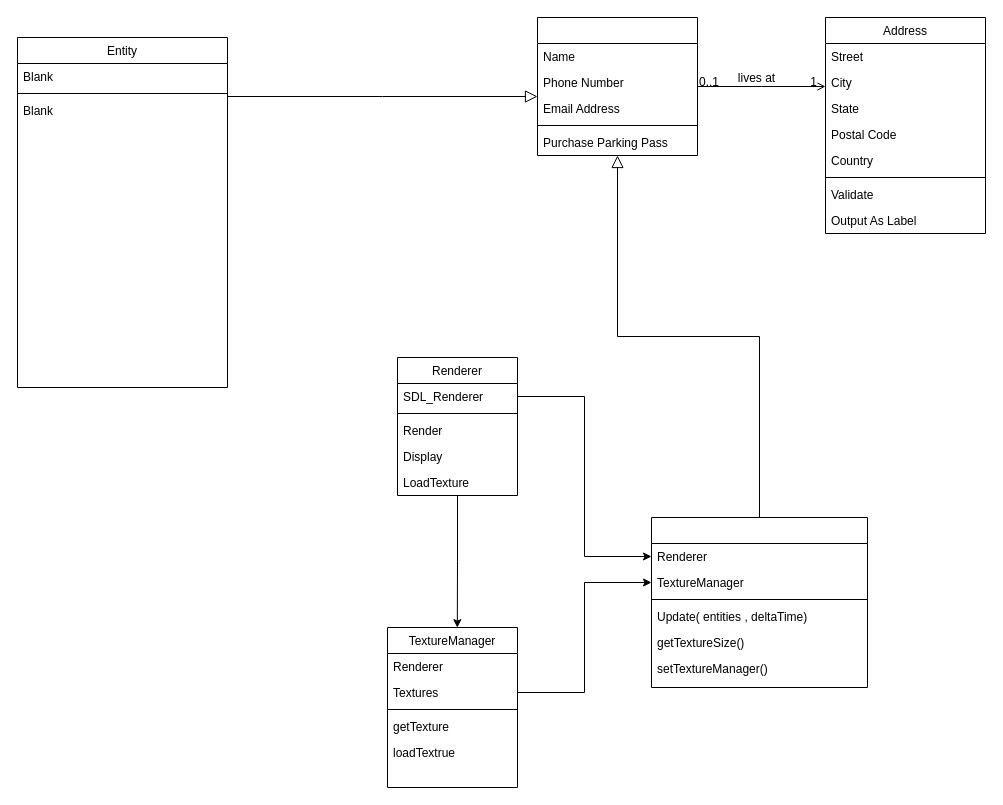
The diagram is 1003 pixels wide and 805 high, and some of its shapes have lost their labels. The box of each missing label's shape, as (x1, y1, x2, y2) in pixels:
Game: (536, 16, 698, 156)
RenderSystem: (650, 516, 868, 688)
